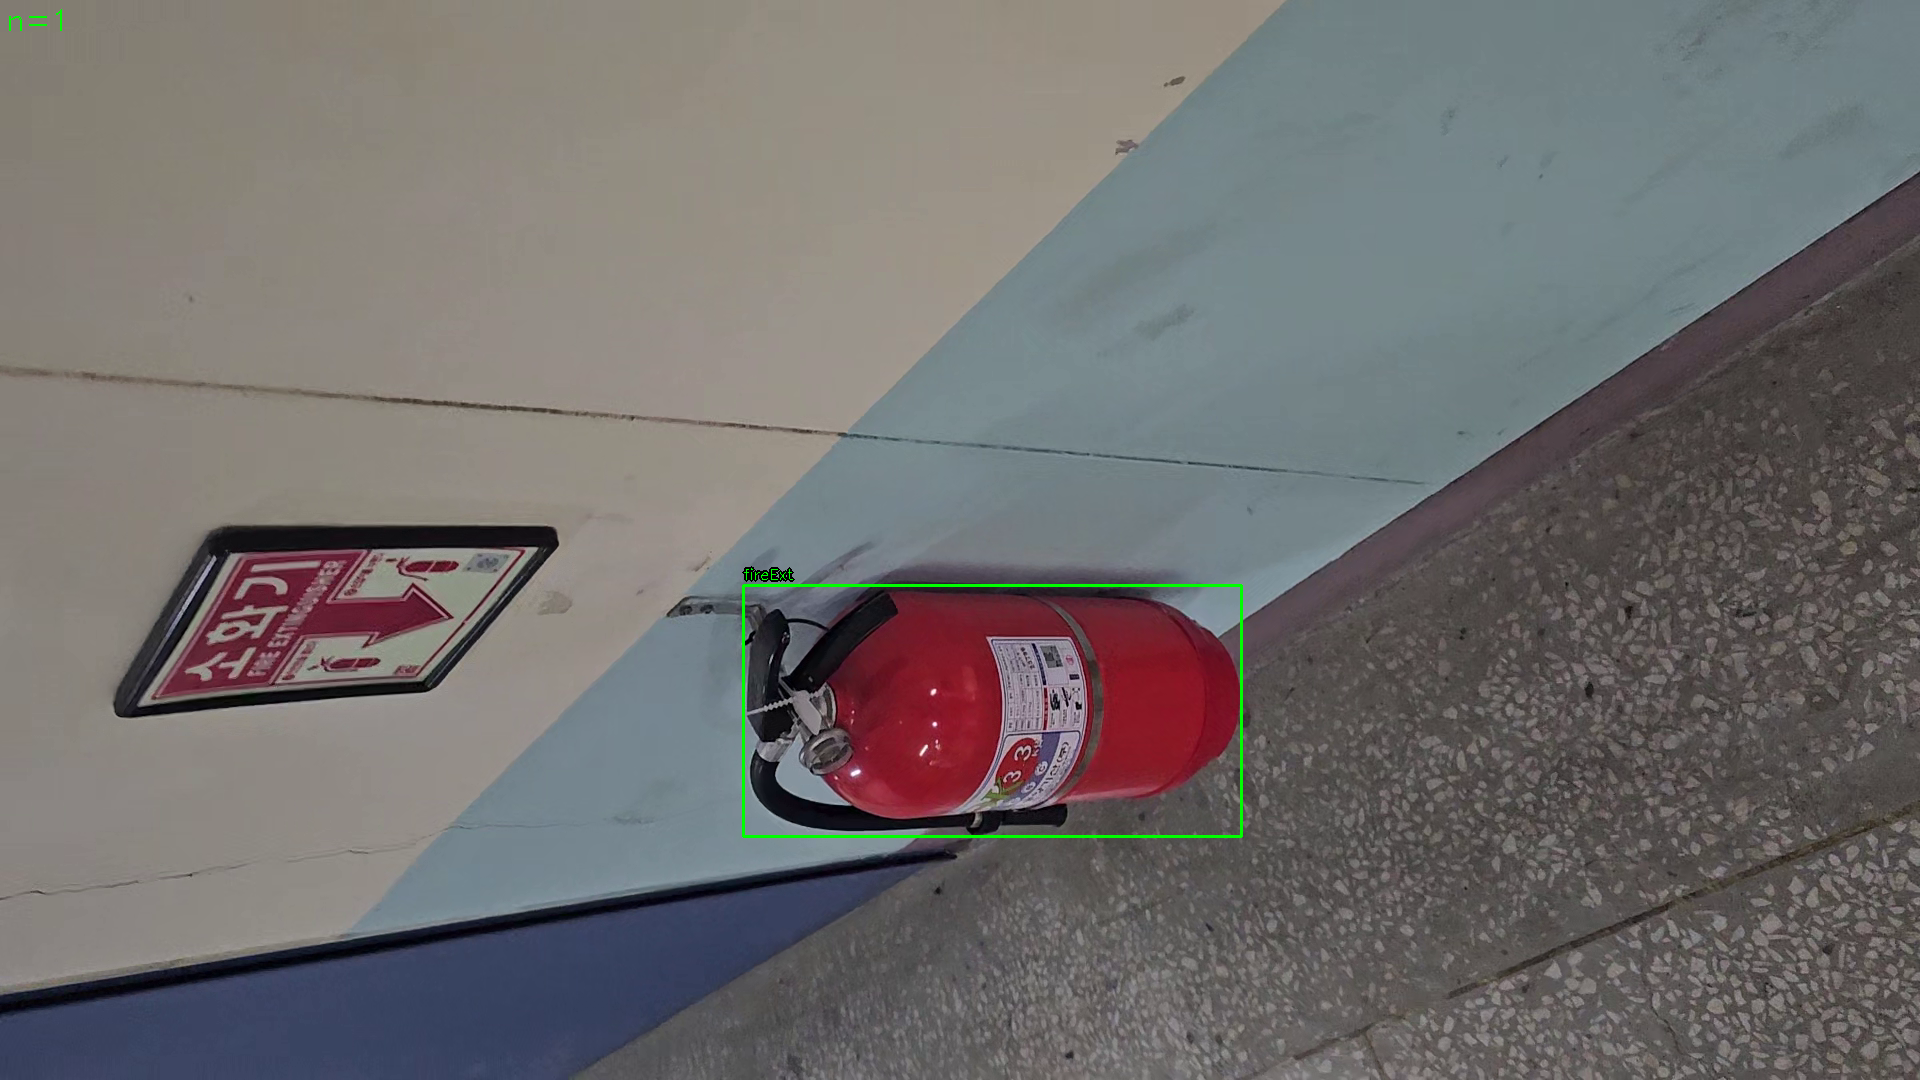lane: (742, 585, 1242, 837)
